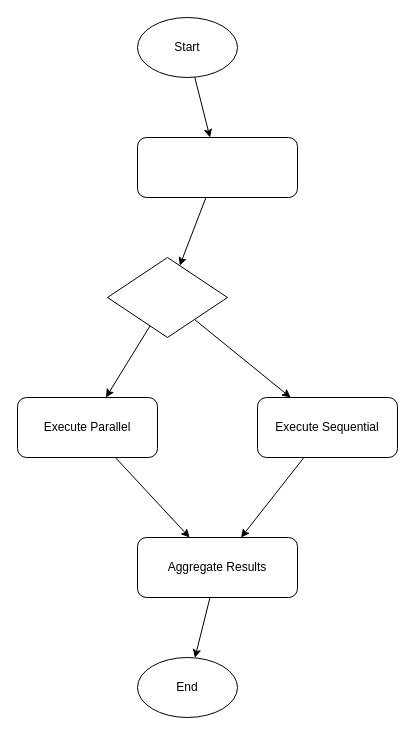
Image size: 415x735. Some labels were removed from this diagram. Each missing label, with the box of its shape:
Analyze Dependencies: (136, 136, 298, 198)
Independent?: (106, 256, 228, 338)
